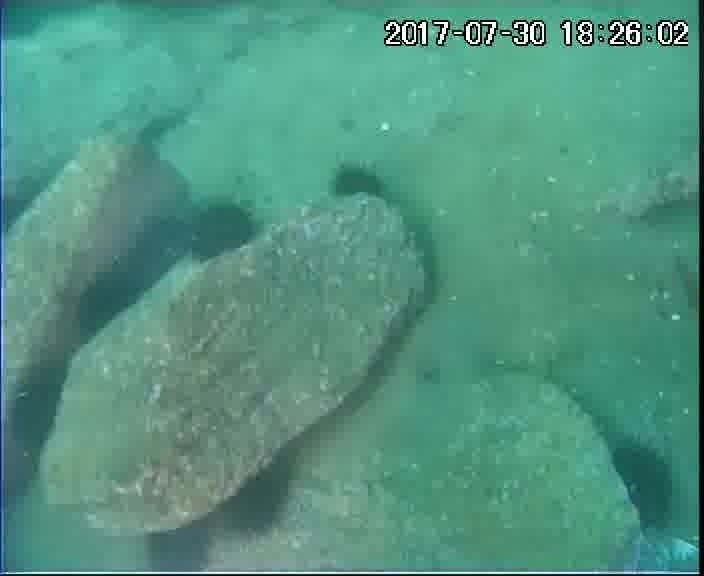echinus: (605, 438, 682, 535), (2, 357, 75, 456), (217, 454, 299, 540), (67, 268, 148, 348), (183, 197, 261, 265), (140, 516, 219, 572), (327, 160, 394, 212)
